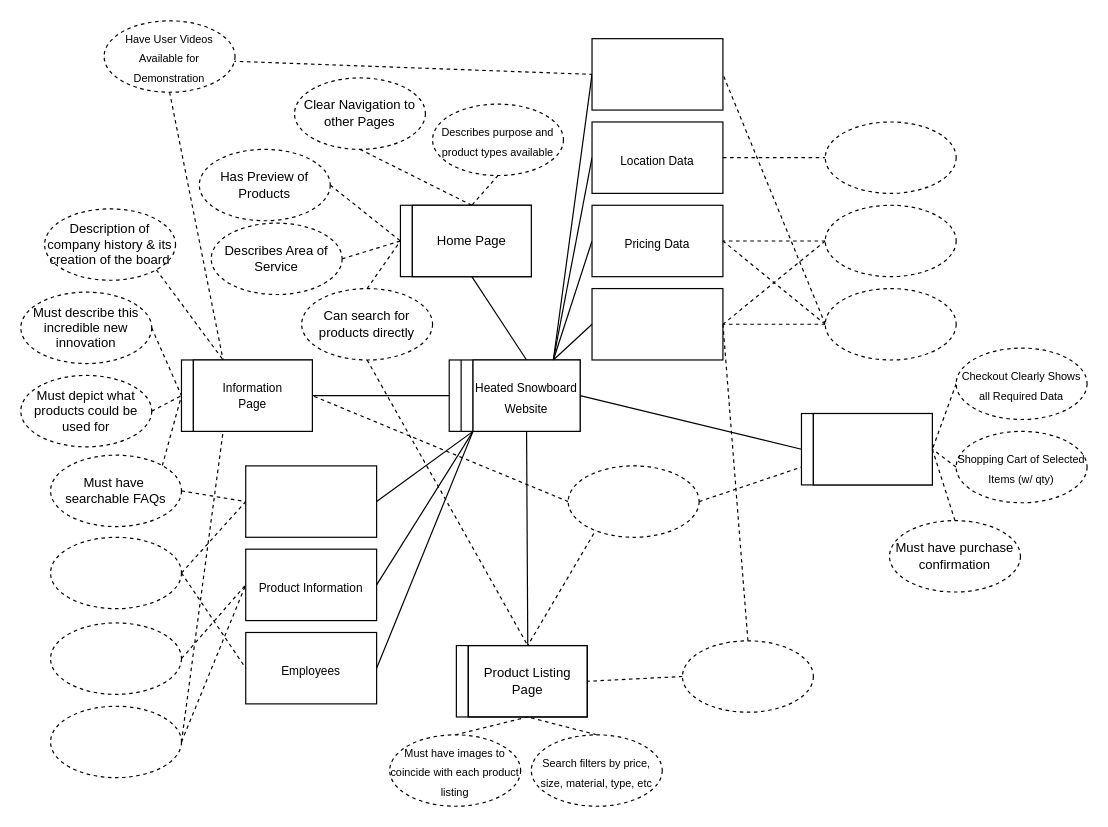
Image size: 1108x827. Some labels were removed from this diagram. The centre of each missing label's shape, as x and y in pixels:
Easily go back to Home Page: [633,501]
Employee Contact Information: [115,572]
Guide to make finding the shop easy: [890,157]
Inventory Data: [657,323]
Inventory reflects sales: [890,240]
Must be up-to-date: [890,323]
Payment System to Purchase Boards: [872,448]
Pictures of Product: [115,741]
Product Dimensions: [115,658]
Product Review Data: [657,73]
Shows remaining low-stock items: [747,676]
Support Data: [311,501]
